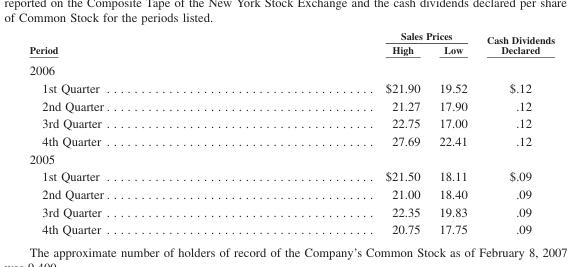table: (28, 29, 554, 236)
table column: (28, 29, 246, 236), (246, 29, 429, 236), (476, 29, 554, 236), (429, 29, 476, 236)
table column header: (28, 29, 554, 58)
table projected row header: (28, 58, 554, 78), (28, 149, 554, 167)
table row: (28, 58, 554, 78), (28, 78, 554, 96), (28, 96, 554, 114), (28, 131, 554, 149), (28, 149, 554, 167), (28, 184, 554, 202), (28, 202, 554, 220), (28, 114, 554, 131), (28, 167, 554, 184), (28, 42, 554, 58), (28, 220, 554, 236), (28, 29, 554, 42)
table spanning cell: (28, 29, 246, 58), (246, 29, 476, 42), (476, 29, 554, 58)
